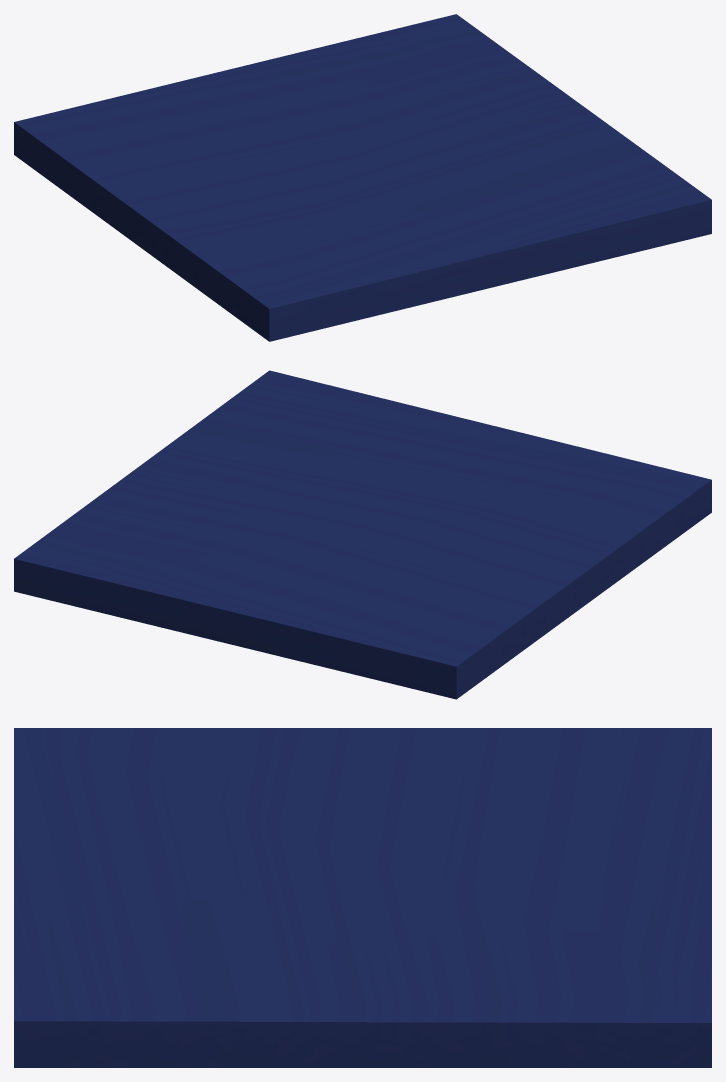
The model's file is hole2.0.fbx.
The picture shows the model from 3 angles, top to bottom: view 1: azimuth 30°, elevation 25°; view 2: azimuth 150°, elevation 25°; view 3: azimuth 270°, elevation 25°; orthographic projection. The views are drawn at different scales.
Visible parts, largest first — view 1: pCube198; view 2: pCube198; view 3: pCube198.
Boxes of the visible parts, x1,y1,x2,y2 form: pCube198: (14, 14, 711, 341); pCube198: (14, 370, 711, 699); pCube198: (14, 728, 711, 1067).
Bounding box in the file's own units: 100 × 7.38 × 100.
